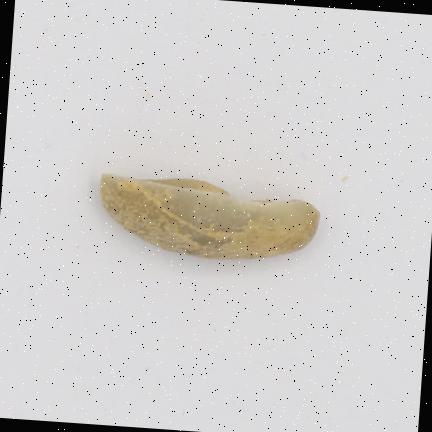shell: (100, 173, 319, 257)
